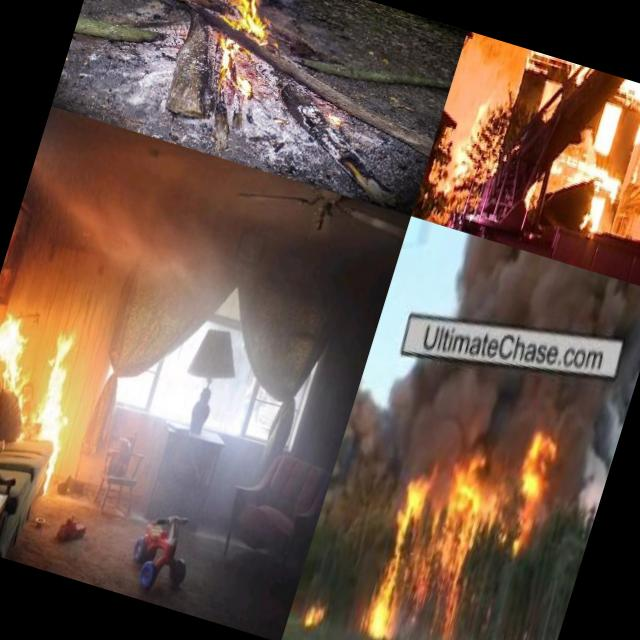fire: (359, 407, 562, 640), (0, 310, 93, 447), (189, 0, 290, 95), (551, 128, 640, 232), (438, 96, 498, 202), (516, 48, 606, 98), (609, 80, 640, 170), (300, 589, 332, 639)
smoke: (534, 380, 632, 546)
